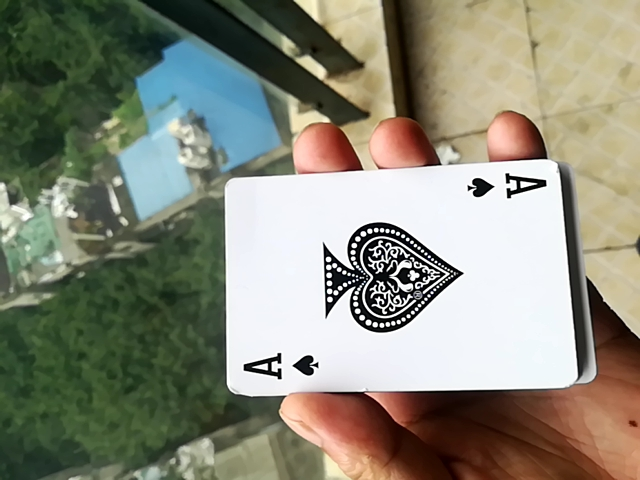ht a: (216, 159, 577, 406)
